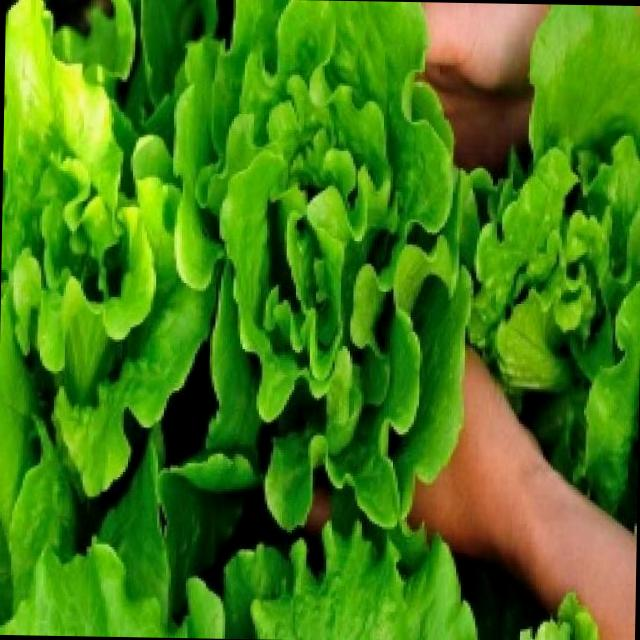Lettuce-Ready-to-Harvest: (174, 1, 468, 528), (0, 0, 214, 623), (0, 428, 477, 640), (468, 4, 640, 525), (523, 598, 596, 640)
